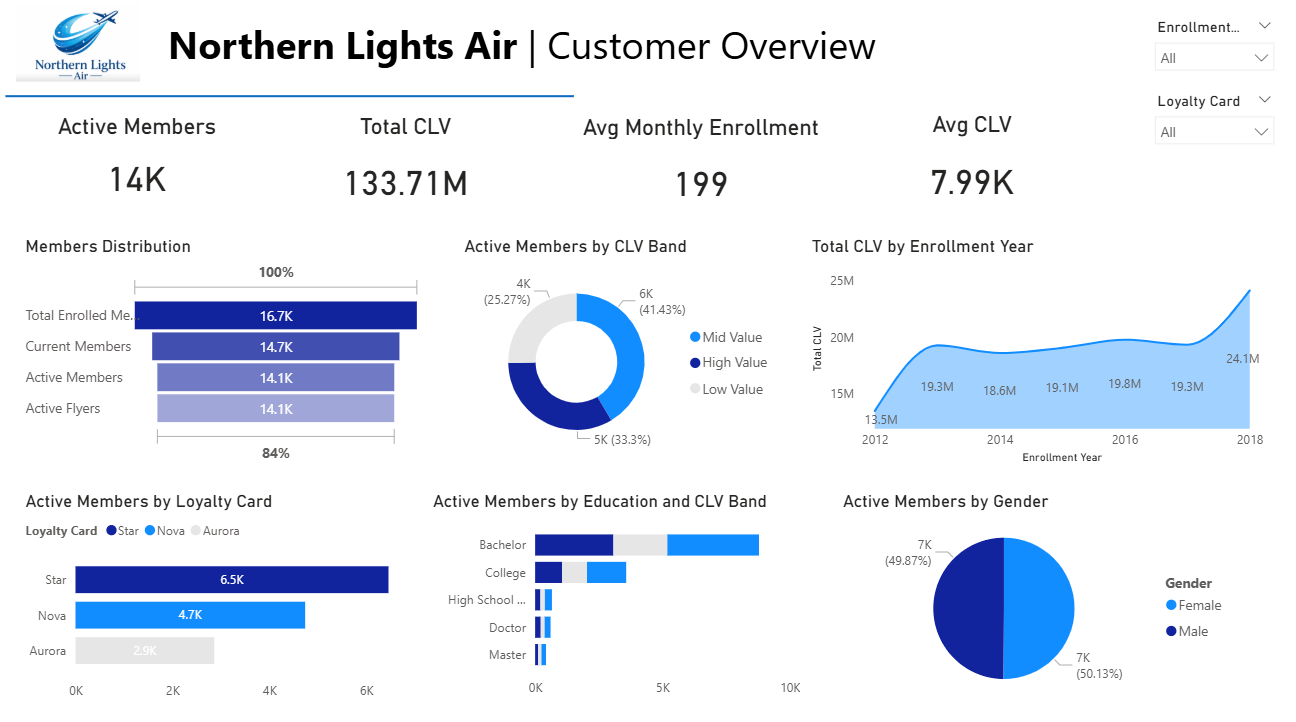

The dashboard page shown, as its layout file describes it:
{"tool":"powerbi","page":{"name":"Customer Overview","canvas":[1280,720],"ordinal":2},"visuals":[{"type":"card","title":"Active Members","fields":{"Values":["Measure Table.# Active Members"]},"box":[27.8,118.4,225.1,99.4],"z":0},{"type":"card","title":"Total CLV","fields":{"Values":["Measure Table.Total CLV"]},"box":[290.9,118,225,107],"z":1000},{"type":"barChart","title":"Active Members by Loyalty Card","fields":{"Category":["Dim_Customer.Loyalty Card"],"Y":["Measure Table.# Active Members"],"Series":["Dim_Customer.Loyalty Card"]},"box":[27.4,488.5,397.9,214.1],"z":2000},{"type":"donutChart","fields":{"Category":["Dim_Customer.CLV Band"],"Y":["Measure Table.# Active Members"]},"box":[455.6,238.8,315.6,227.8],"z":3000},{"type":"barChart","fields":{"Category":["Dim_Customer.Education"],"Y":["Measure Table.# Active Members"],"Series":["Dim_Customer.CLV Band"]},"box":[425.4,488.5,369.1,211.3],"z":4000},{"type":"pieChart","fields":{"Y":["Measure Table.Active Members"],"Category":["Dim_Customer.Gender"]},"box":[826.1,488.5,391.1,211.3],"z":5000},{"type":"stackedAreaChart","fields":{"Y":["Measure Table.Total CLV"],"Category":["Dim_Customer.Enrollment Year"]},"box":[795.9,238.8,451.5,227.8],"z":6000},{"type":"textbox","box":[166,20.9,1012,66.1],"z":7000},{"type":"image","box":[0,6.3,166.3,86.3],"z":8000},{"type":"shape","box":[12.5,27.5,556.4,150],"z":9000},{"type":"funnel","title":"Members Distribution","fields":{"Y":["Measure Table.Total Enrolled Members","Measure Table.Current Members","Measure Table.# Active Members","Measure Table.Active Flyers"]},"box":[27.4,238.8,397.9,227.8],"z":10000},{"type":"card","title":"Avg Monthly Enrollment","fields":{"Values":["Measure Table.Avg Monthly Enrollment"]},"box":[560.5,119.7,265,107],"z":11000},{"type":"card","title":"Avg CLV","fields":{"Values":["Measure Table.Avg CLV"]},"box":[844.6,117.2,225.5,108.3],"z":12000},{"type":"slicer","fields":{"Values":["Dim_Customer.Loyalty Card"]},"box":[1126.2,92.9,137,85.6],"z":13000},{"type":"slicer","fields":{"Values":["Dim_Customer.Enrollment Year"]},"box":[1126.2,20.8,137,66],"z":14000}]}

Visuals, with their boxes in screenshot pixels (x1, y1, x2, y2), scaled from the page's 1280x720 canvas onto the 1296x722 screenshot:
"Active Members" card: crop(28, 119, 256, 218)
"Total CLV" card: crop(295, 118, 522, 226)
"Active Members by Loyalty Card" barChart: crop(28, 490, 431, 705)
donutChart - Dim_Customer.CLV Band x Measure Table.# Active Members: crop(461, 239, 781, 468)
barChart - Dim_Customer.Education x Measure Table.# Active Members: crop(431, 490, 804, 702)
pieChart - Measure Table.Active Members x Dim_Customer.Gender: crop(836, 490, 1232, 702)
stackedAreaChart - Measure Table.Total CLV x Dim_Customer.Enrollment Year: crop(806, 239, 1263, 468)
textbox: crop(168, 21, 1193, 87)
image: crop(0, 6, 168, 93)
shape: crop(13, 28, 576, 178)
"Members Distribution" funnel: crop(28, 239, 431, 468)
"Avg Monthly Enrollment" card: crop(568, 120, 836, 227)
"Avg CLV" card: crop(855, 118, 1083, 226)
slicer - Dim_Customer.Loyalty Card: crop(1140, 93, 1279, 179)
slicer - Dim_Customer.Enrollment Year: crop(1140, 21, 1279, 87)
